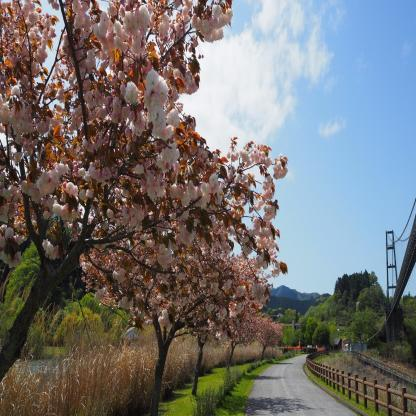YaeSakura: (0, 0, 235, 310), (148, 124, 287, 336), (189, 252, 266, 347), (229, 294, 262, 348), (258, 315, 283, 351)
